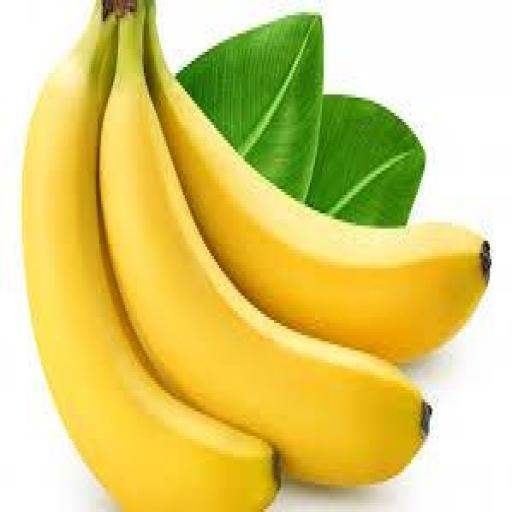banana: (100, 13, 429, 487), (23, 0, 277, 511), (146, 25, 491, 362)
